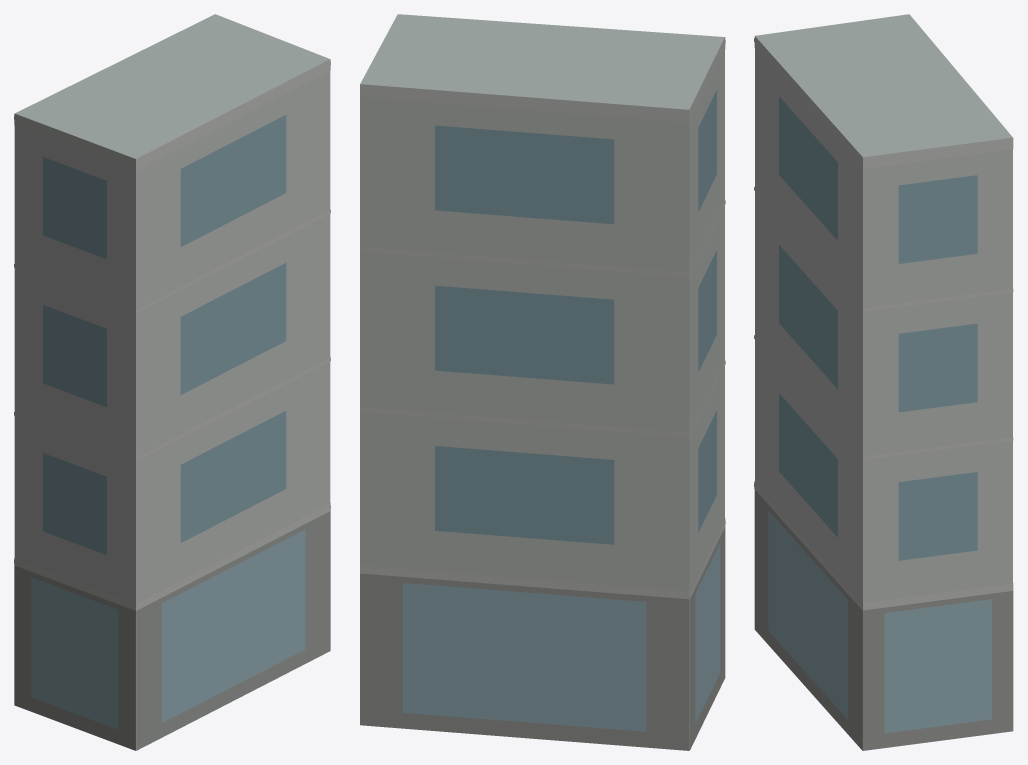
File: survey-upis-32648372.glb
3 renders of one model, left to right at view 1: azimuth 30°, elevation 25°; view 2: azimuth 150°, elevation 25°; view 3: azimuth 270°, elevation 25°, orthographic. The views are drawn at different scales.
Visible parts, largest first — view 1: survey-upis-32648372.tmp; view 2: survey-upis-32648372.tmp; view 3: survey-upis-32648372.tmp.
Part boxes in pixels (x1,y1,x2,y2): survey-upis-32648372.tmp: (14, 14, 330, 750); survey-upis-32648372.tmp: (360, 14, 725, 750); survey-upis-32648372.tmp: (754, 14, 1013, 750).
Bounding box in the file's own units: 6.34 × 12.2 × 4.84.
